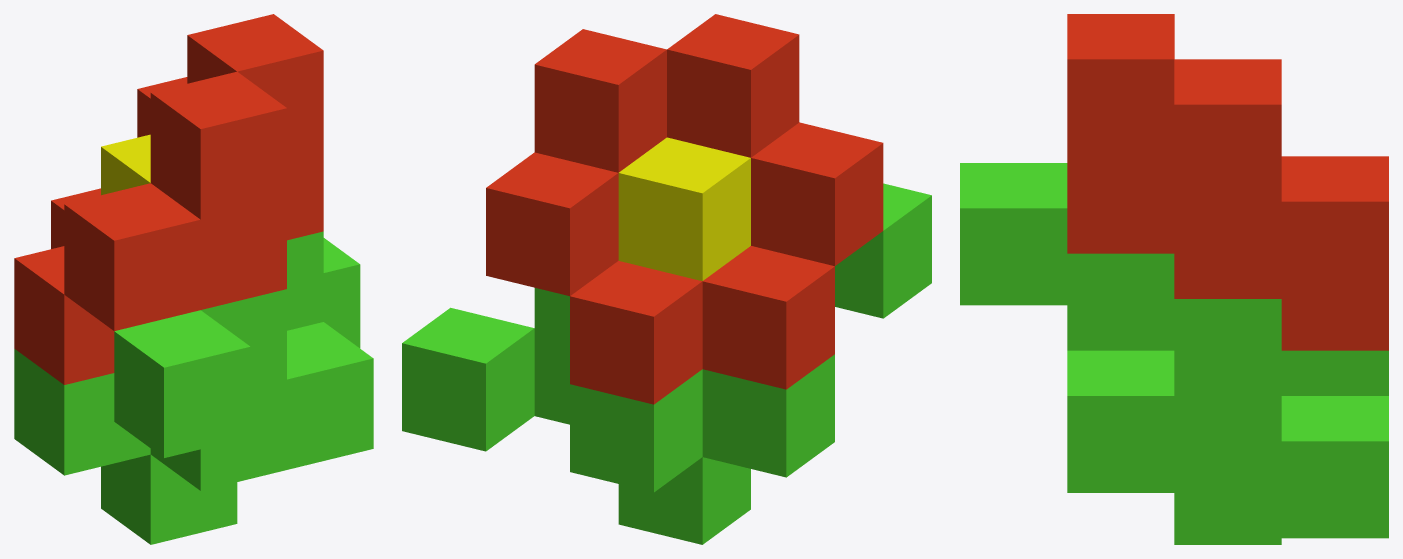
File: tile-64.obj
3 renders of one model, left to right at view 1: azimuth 30°, elevation 25°; view 2: azimuth 150°, elevation 25°; view 3: azimuth 270°, elevation 25°, orthographic. The views are drawn at different scales.
Size of the model in its own units: 0.4 by 0.5 by 0.4.
1 material, 1 textured.
